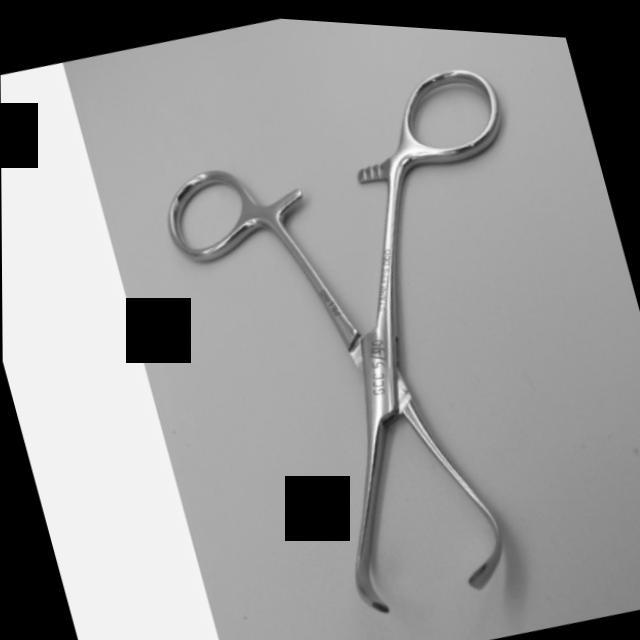Backhaus Towel Clamp: (136, 28, 630, 640)
